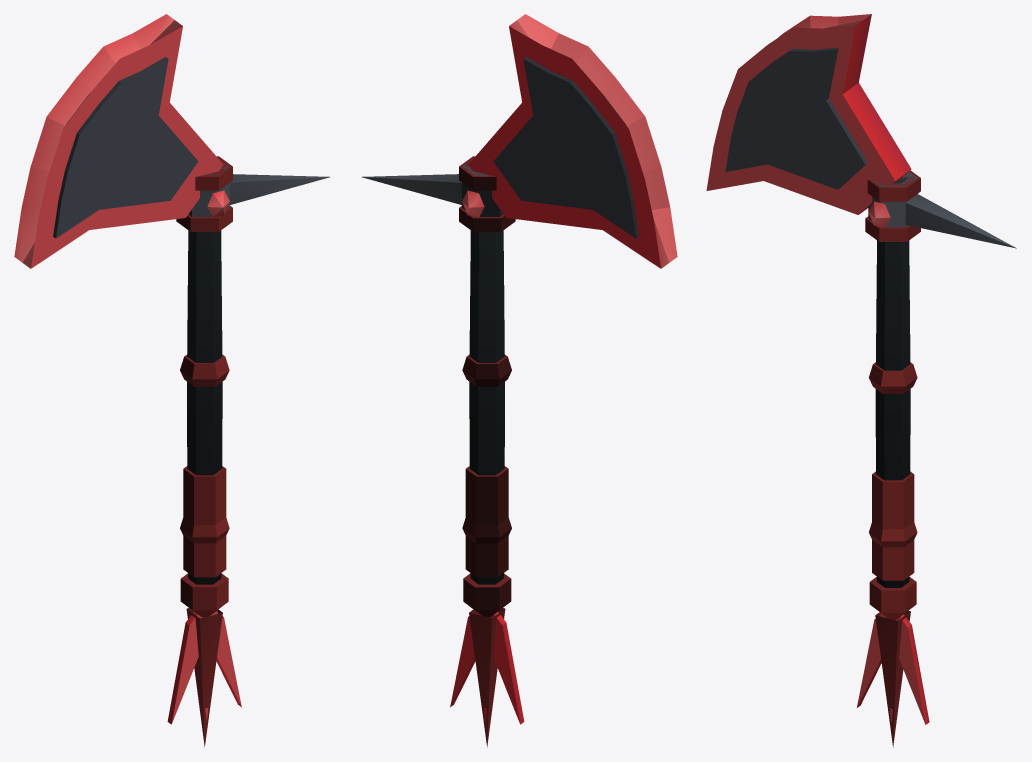
File: barb_throwing_3.gltf
The picture shows the model from 3 angles, left to right: view 1: azimuth 30°, elevation 25°; view 2: azimuth 150°, elevation 25°; view 3: azimuth 330°, elevation 25°; orthographic projection.
Visible parts, largest first — view 1: barb_throwing_3; view 2: barb_throwing_3; view 3: barb_throwing_3.
Boxes of the visible parts, box(x1,y1,x2,y2) form: barb_throwing_3: box(14, 14, 330, 747); barb_throwing_3: box(361, 14, 677, 747); barb_throwing_3: box(706, 14, 1016, 747).
Size of the model in its own units: 0.7064 by 1.61 by 0.1464.
Materials: 1 (1 with a texture image).
